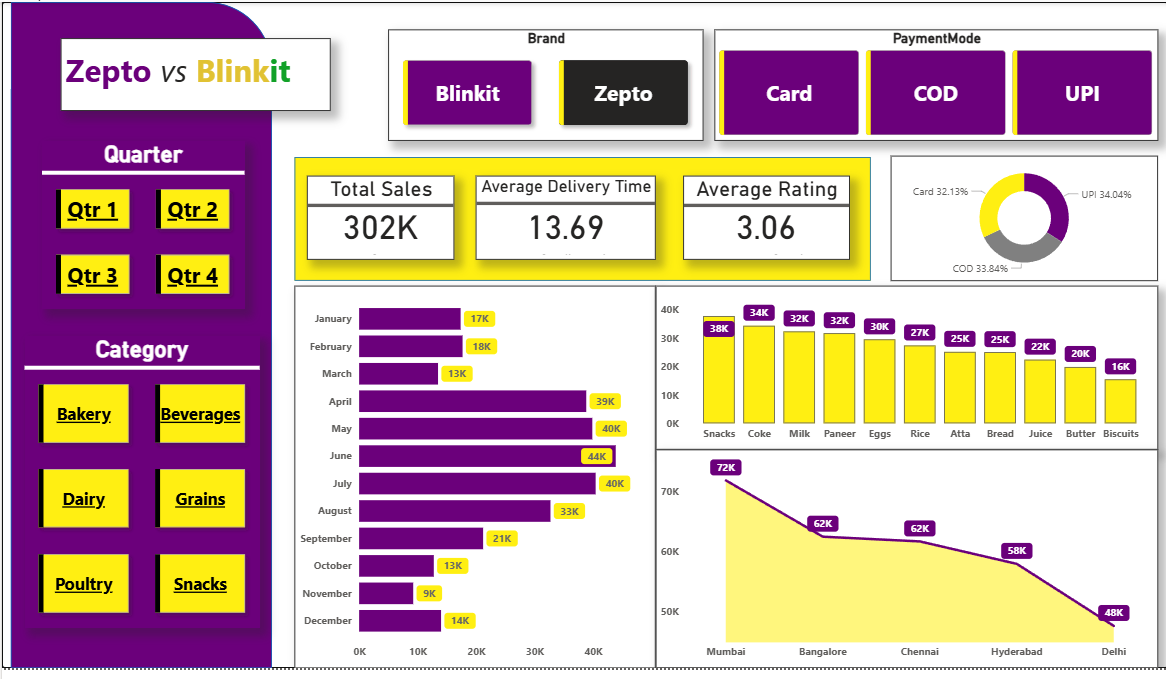

This screenshot's page, from the dashboard's own definition file:
{"tool":"powerbi","page":{"name":"Page 1","canvas":[1400,800],"ordinal":0},"visuals":[{"type":"shape","box":[10.5,0,313.7,800],"z":0},{"type":"textbox","box":[70.5,43,324.2,87.1],"z":2000},{"type":"advancedSlicerVisual","fields":{"Values":["Table2.Brand"]},"box":[463.8,33,378.2,133.6],"z":3000},{"type":"advancedSlicerVisual","fields":{"Values":["Table2.PaymentMode"]},"box":[855.5,33,532.8,133.6],"z":4000},{"type":"advancedSlicerVisual","title":" Quarter","fields":{"Values":["Table2.Date.Variation.Date Hierarchy.Quarter"]},"box":[48,166.6,243.1,202.6],"z":5000},{"type":"advancedSlicerVisual","title":" Category","fields":{"Values":["Table2.Category"]},"box":[27,400.7,282.2,351.2],"z":6000},{"type":"shape","box":[351.2,186.1,691.9,148.6],"z":7000},{"type":"card","title":"Total Sales","fields":{"Values":["Sum(Table2.Amount)"]},"box":[366.2,208.6,177.1,100.6],"z":8000},{"type":"card","title":"Average Delivery Time","fields":{"Values":["Avg(Table2.DeliveryTime(min))"]},"box":[568.8,208.6,216.1,100.6],"z":9000},{"type":"card","title":"Average Rating","fields":{"Values":["Avg(Table2.Rating)"]},"box":[818,208.6,199.6,100.6],"z":10000},{"type":"clusteredBarChart","fields":{"Category":["Table2.Date.Variation.Date Hierarchy.Month"],"Y":["Sum(Table2.Amount)"]},"box":[351.2,340.7,433.7,459.3],"z":11000},{"type":"columnChart","fields":{"Category":["Table2.Product"],"Y":["Sum(Table2.Amount)"]},"box":[785,340.7,603.3,196.6],"z":12000},{"type":"areaChart","fields":{"Category":["Table2.City"],"Y":["Sum(Table2.Amount)"]},"box":[785,538,603,262],"z":13000},{"type":"donutChart","fields":{"Category":["Table2.PaymentMode"],"Y":["Sum(Table2.Amount)"]},"box":[1067.1,184.6,321.2,150.1],"z":14000}]}

Visuals, with their boxes in screenshot pixels (x1, y1, x2, y2), scaled from the page's 1400x800 canvas onto the 1166x679 screenshot:
shape: x1=9 y1=0 x2=270 y2=678
textbox: x1=59 y1=36 x2=329 y2=110
advancedSlicerVisual - Table2.Brand: x1=386 y1=28 x2=701 y2=141
advancedSlicerVisual - Table2.PaymentMode: x1=713 y1=28 x2=1156 y2=141
" Quarter" advancedSlicerVisual: x1=40 y1=141 x2=242 y2=313
" Category" advancedSlicerVisual: x1=22 y1=340 x2=258 y2=638
shape: x1=292 y1=158 x2=869 y2=284
"Total Sales" card: x1=305 y1=177 x2=452 y2=262
"Average Delivery Time" card: x1=474 y1=177 x2=654 y2=262
"Average Rating" card: x1=681 y1=177 x2=848 y2=262
clusteredBarChart - Table2.Date.Variation.Date Hierarchy.Month x Sum(Table2.Amount): x1=292 y1=289 x2=654 y2=678
columnChart - Table2.Product x Sum(Table2.Amount): x1=654 y1=289 x2=1156 y2=456
areaChart - Table2.City x Sum(Table2.Amount): x1=654 y1=457 x2=1156 y2=678
donutChart - Table2.PaymentMode x Sum(Table2.Amount): x1=889 y1=157 x2=1156 y2=284
